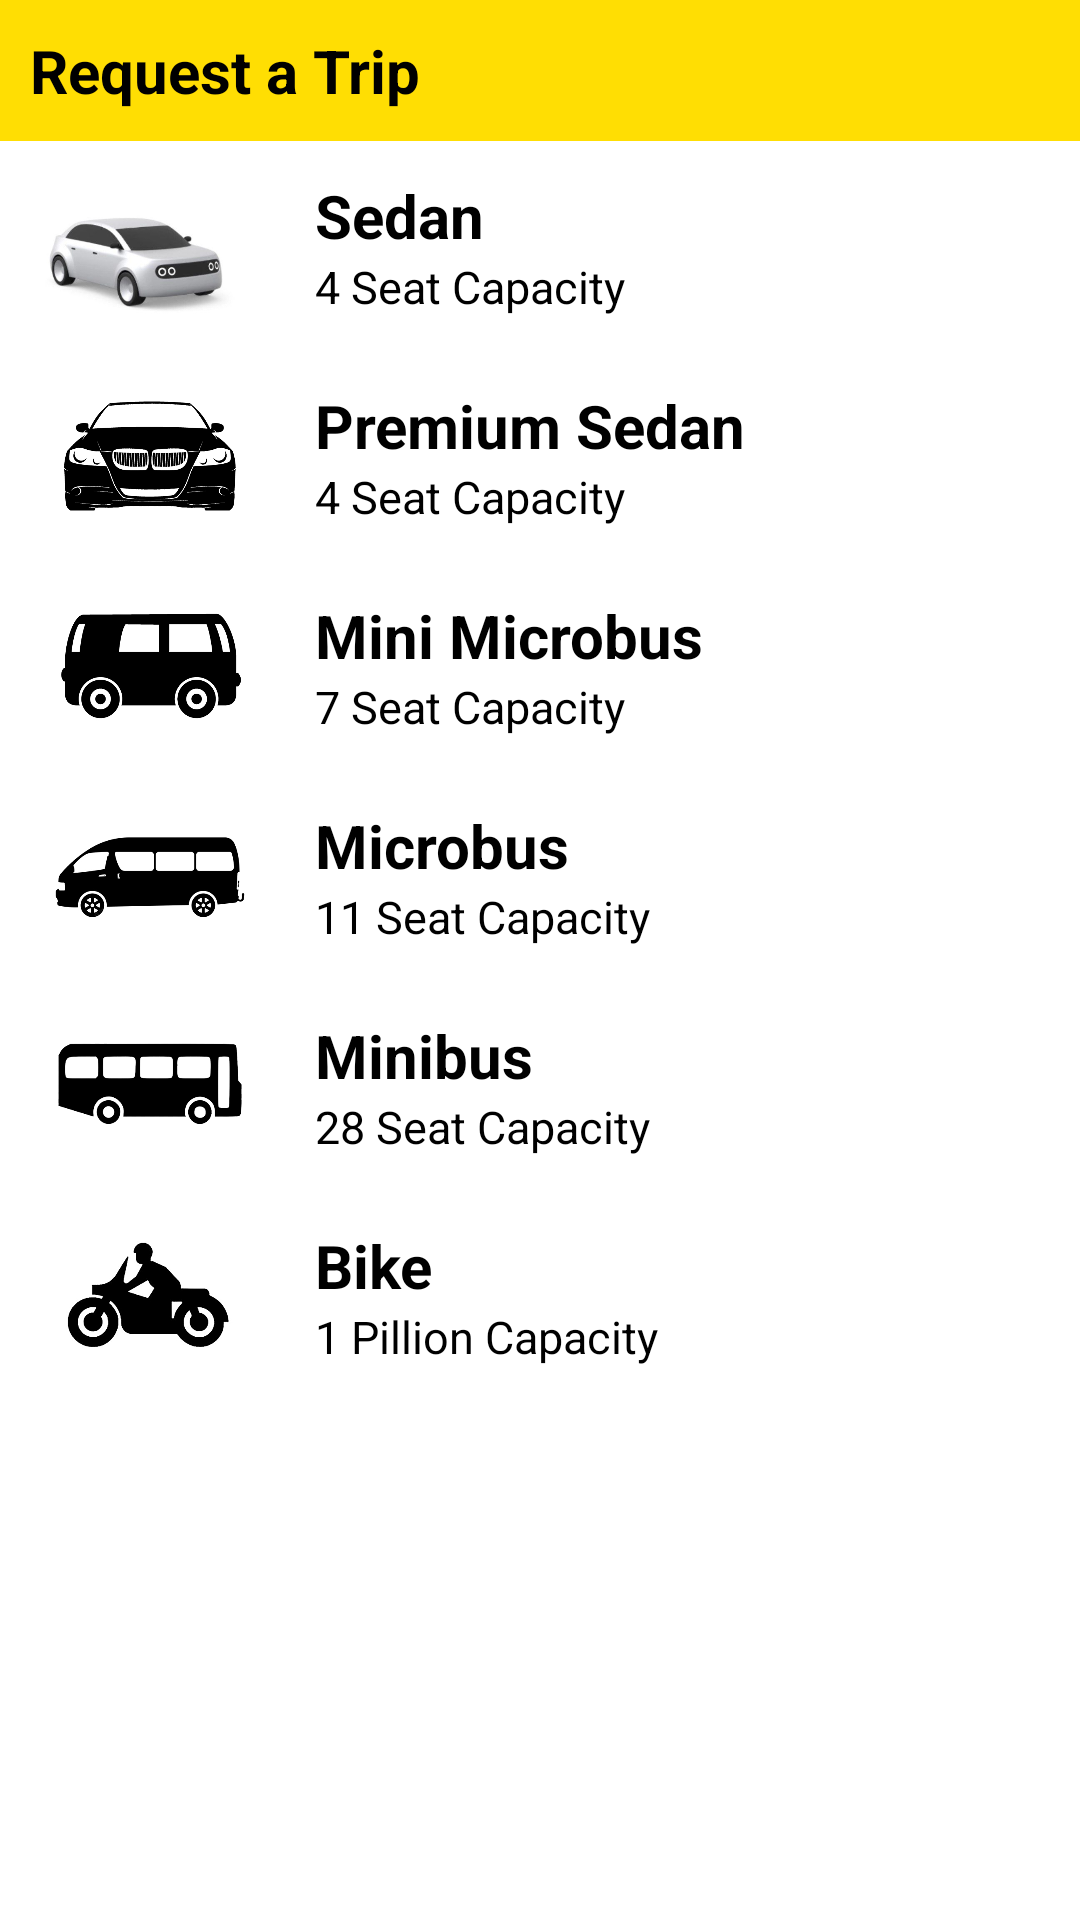

Named icons in this screenshot (1080 x 1920) and their centers, point (x, y):
premium car: point (150, 456)
